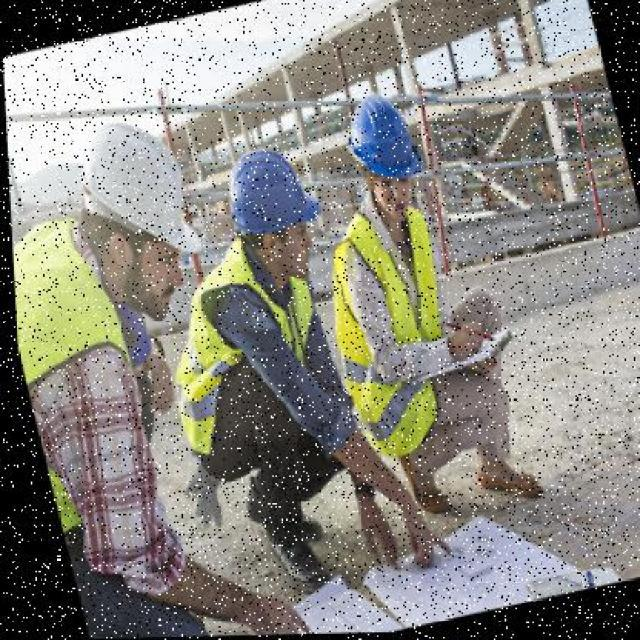helmet: (66, 105, 204, 269), (213, 143, 323, 239), (340, 86, 422, 195)
vest: (310, 202, 469, 448)
